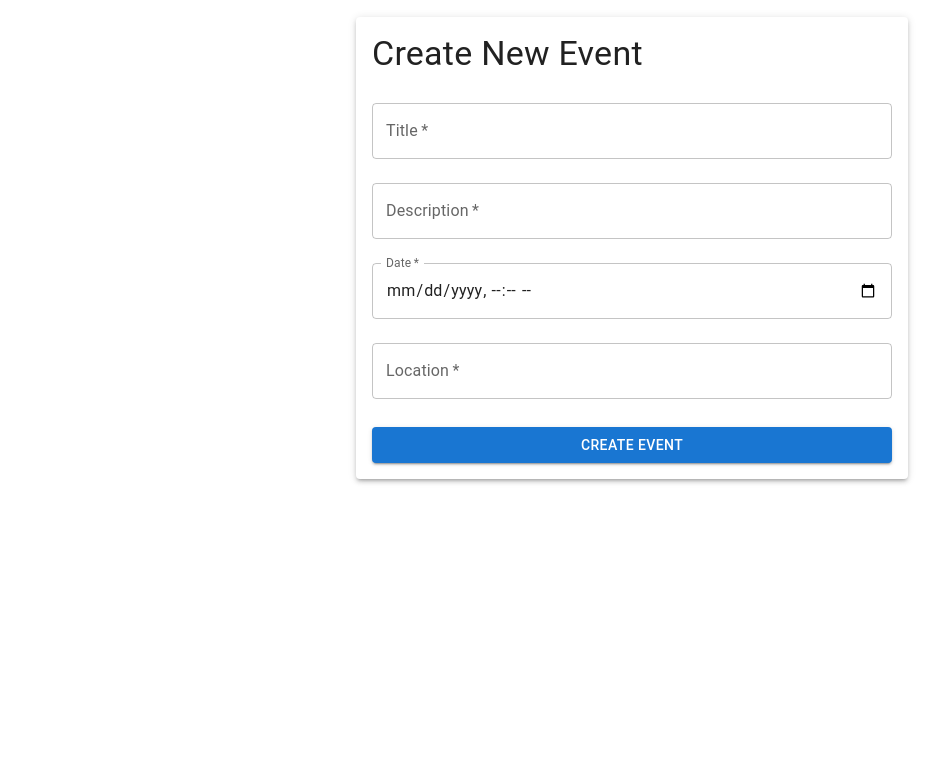
shows error notification when event creation fails
In the field labelled "Title *": x=632, y=131 372,103 -> 892,159, type "New Event"
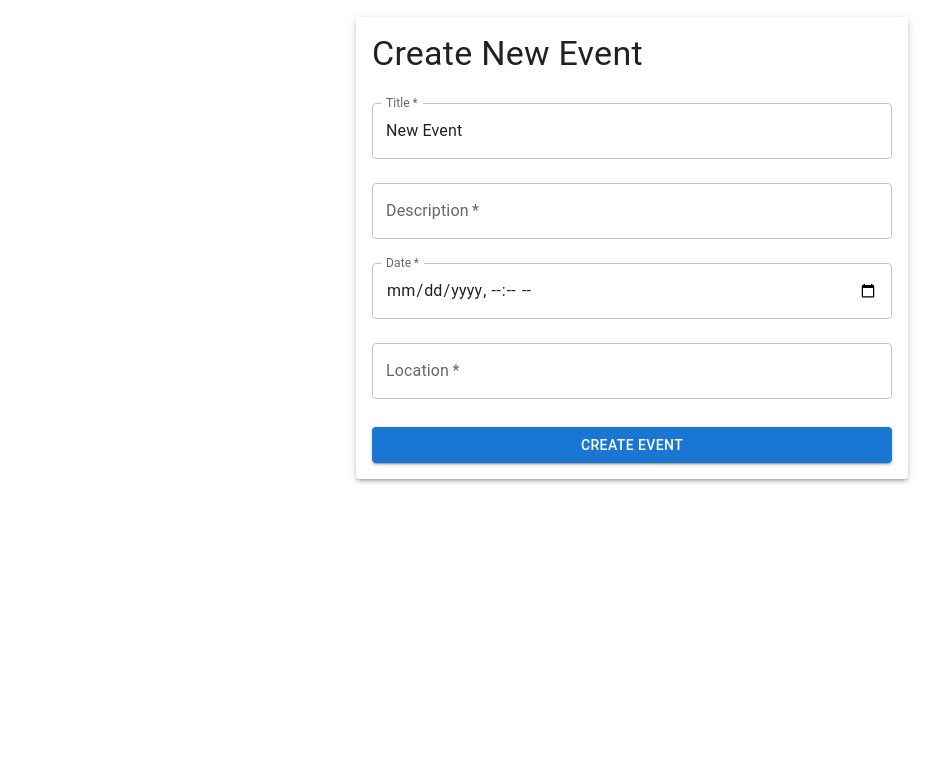
In the field labelled "Description *": x=632, y=211 372,183 -> 892,239, type "Event Description"
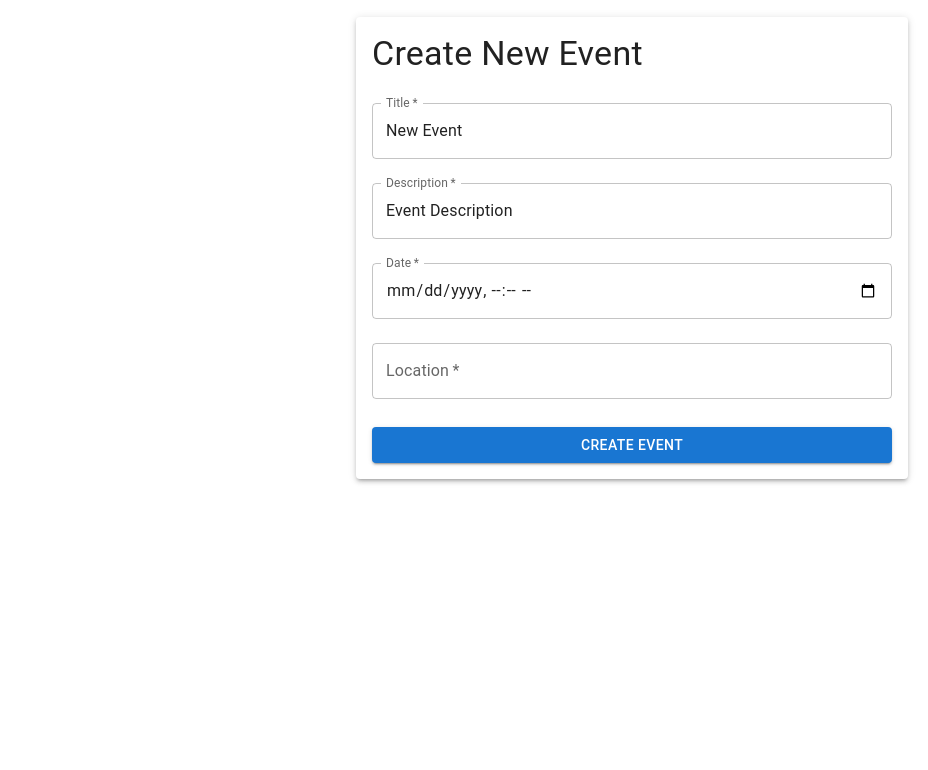
In the field labelled "Date *": x=632, y=291 372,263 -> 892,319, type "2024-08-30T10:00"
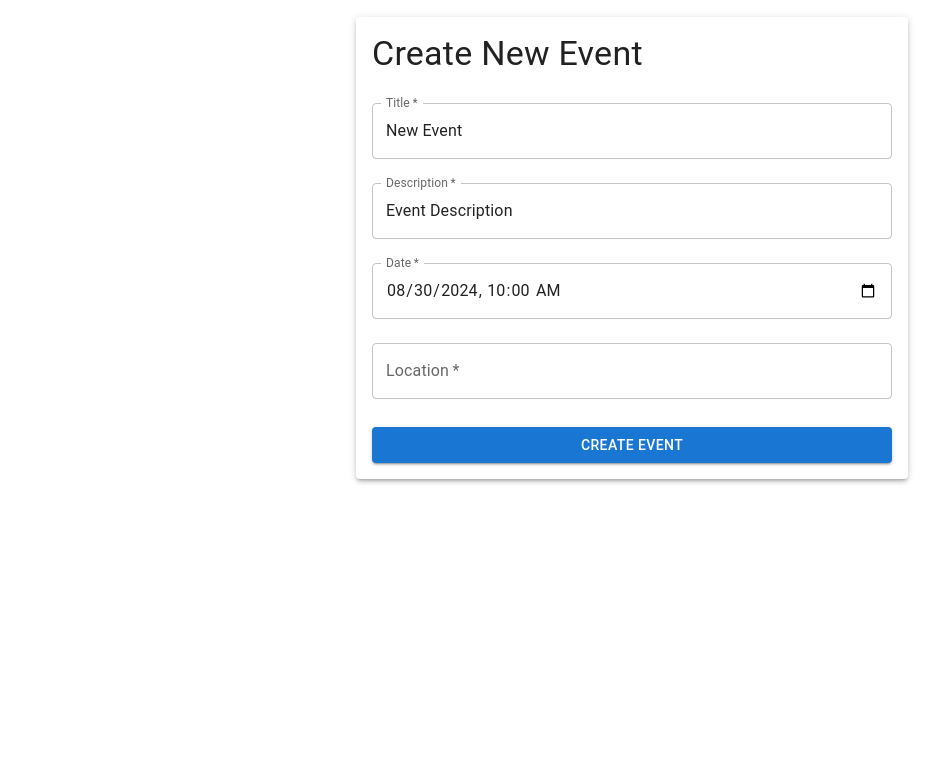
In the field labelled "Location *": x=632, y=371 372,343 -> 892,399, type "Event Location"
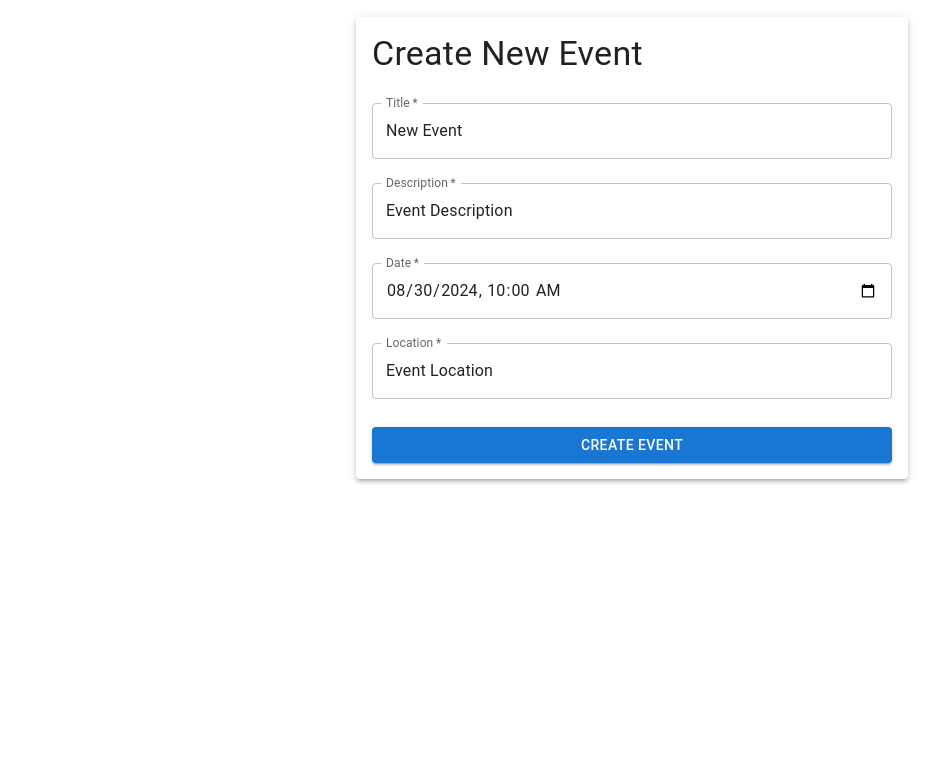
Click the button "Create Event": x=632, y=445 372,427 -> 892,463
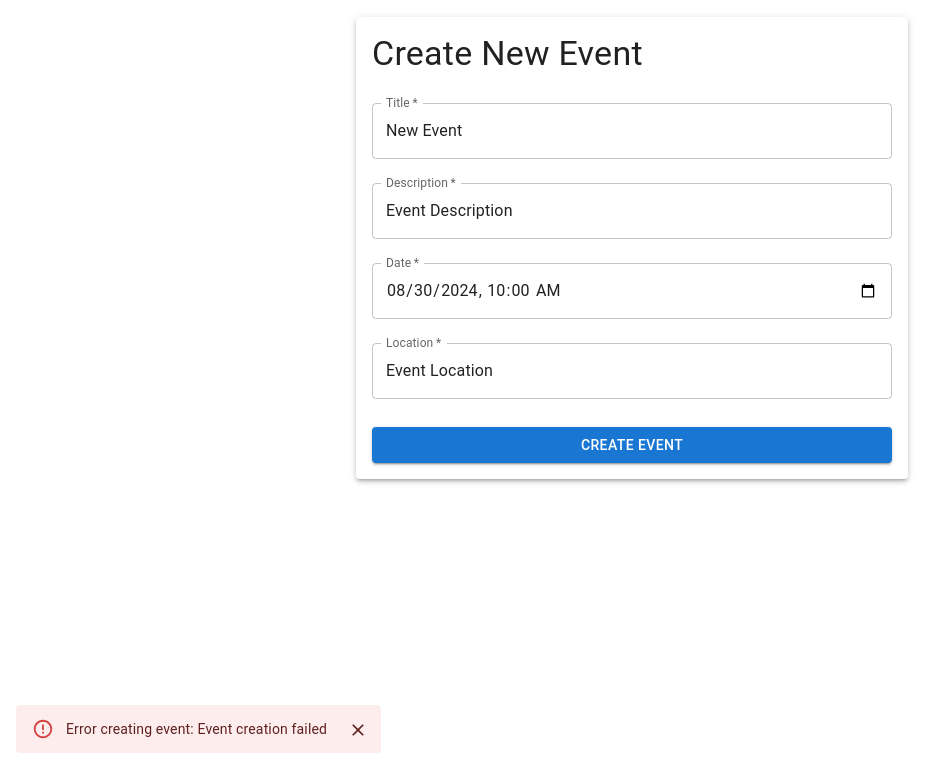
Expected: the text "Error creating event: Event creation failed" is shown, 66,721 -> 327,737
